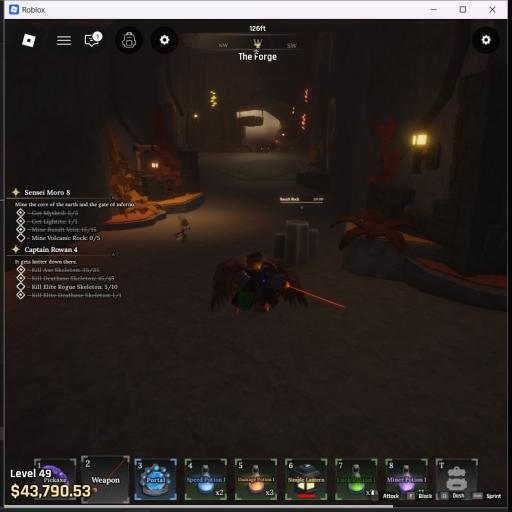player: (210, 252, 307, 312)
rock: (275, 219, 318, 266)
